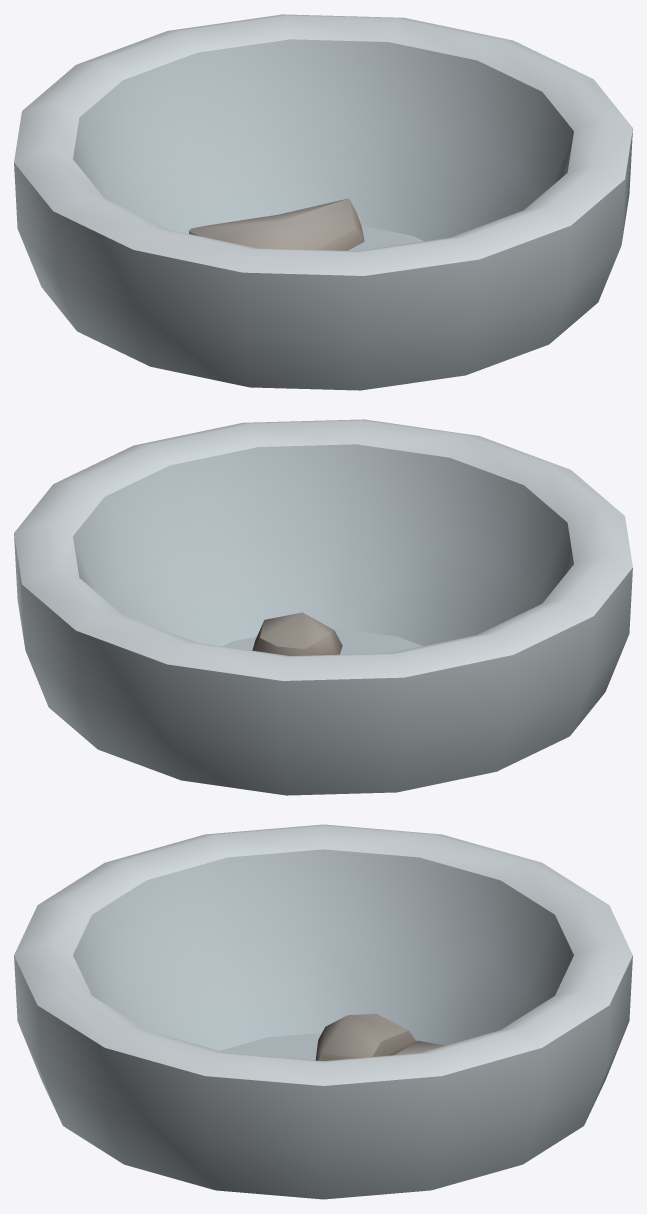
The model's file is Bowl Dirty.glb.
The picture shows the model from 3 angles, top to bottom: view 1: azimuth 30°, elevation 25°; view 2: azimuth 150°, elevation 25°; view 3: azimuth 270°, elevation 25°; orthographic projection.
Parts seen in each view (by area): view 1: bowl_dirty; view 2: bowl_dirty; view 3: bowl_dirty.
Part boxes in pixels (<box>): bowl_dirty: <box>14,14,632,390</box>; bowl_dirty: <box>14,419,632,795</box>; bowl_dirty: <box>14,824,632,1199</box>.
Size of the model in its own units: 0.95 by 0.3 by 0.95.
Materials: 1 (1 with a texture image).
